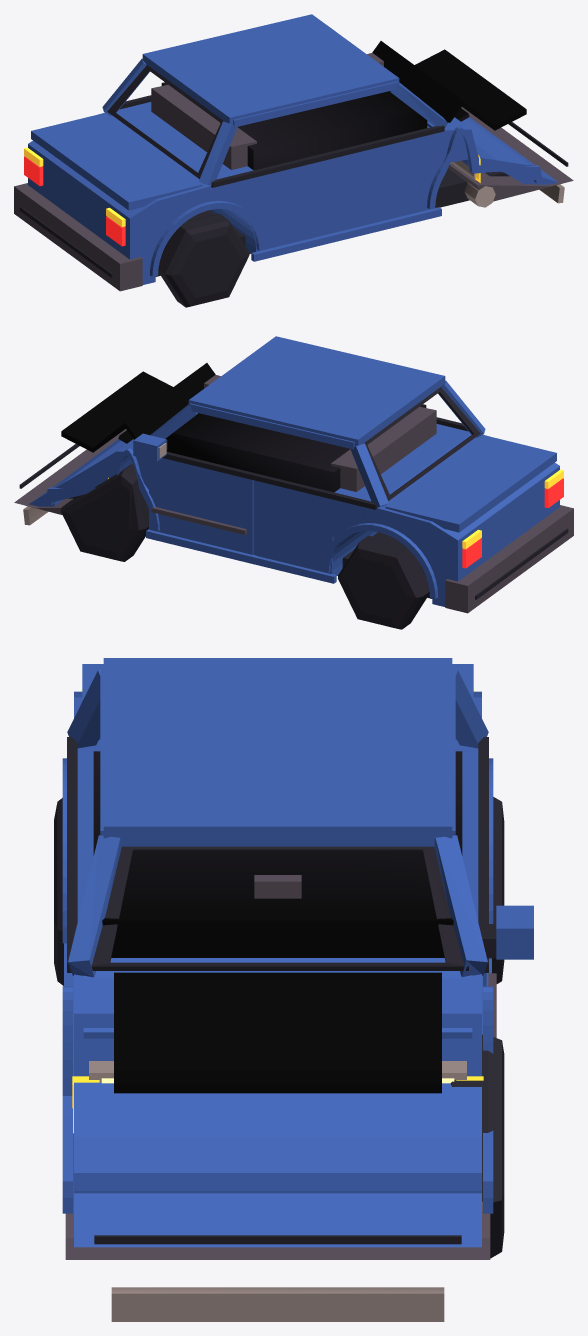
File: model.wrecked.lod2.glb
The picture shows the model from 3 angles, top to bottom: view 1: azimuth 30°, elevation 25°; view 2: azimuth 150°, elevation 25°; view 3: azimuth 270°, elevation 25°; orthographic projection. The views are drawn at different scales.
Visible parts, largest first — view 1: body_pal_policeBlue, body_pal_asphalt, exposedCabin, wheelRL_pal_uiDark, buckledHood, body_pal_uiDark, lightsBrake_emi_sirenRed, exposedAxleHub, lightsBrake_emi_schoolBusYellow; view 2: body_pal_policeBlue, body_pal_asphalt, doorR_pal_policeBlue, exposedCabin, doorRearR_pal_policeBlue, wheelRR_pal_uiDark, buckledHood, wheelFR_pal_uiDark, body_pal_uiDark, lightsBrake_emi_sirenRed, doorR_pal_asphalt, lightsBrake_emi_schoolBusYellow; view 3: body_pal_policeBlue, buckledHood, exposedCabin, body_pal_uiDark, detachedBumper, body_pal_asphalt, wheelFR_pal_uiDark, doorR_pal_policeBlue, wheelRL_pal_uiDark, wheelRR_pal_uiDark, body_pal_sidewalk.
Part boxes in pixels (x1,y1,x2,y2): body_pal_policeBlue: (28, 14, 558, 284); body_pal_asphalt: (14, 53, 573, 291); exposedCabin: (161, 82, 427, 170); wheelRL_pal_uiDark: (158, 213, 249, 307); buckledHood: (372, 41, 526, 130); body_pal_uiDark: (19, 64, 568, 277); lightsBrake_emi_sirenRed: (24, 156, 125, 246); exposedAxleHub: (464, 182, 495, 207); lightsBrake_emi_schoolBusYellow: (24, 147, 125, 226); body_pal_policeBlue: (29, 336, 559, 606); body_pal_asphalt: (14, 375, 573, 613); doorR_pal_policeBlue: (133, 433, 253, 554); exposedCabin: (165, 404, 426, 492); doorRearR_pal_policeBlue: (256, 481, 367, 573); wheelRR_pal_uiDark: (338, 535, 429, 629); buckledHood: (61, 363, 215, 452); wheelFR_pal_uiDark: (60, 463, 148, 561); body_pal_uiDark: (19, 386, 568, 599); lightsBrake_emi_sirenRed: (462, 478, 563, 568); doorR_pal_asphalt: (151, 507, 246, 534); lightsBrake_emi_schoolBusYellow: (462, 469, 563, 548); body_pal_policeBlue: (62, 658, 493, 1247); buckledHood: (114, 972, 441, 1093); exposedCabin: (93, 751, 462, 957); body_pal_uiDark: (67, 737, 488, 1244); detachedBumper: (111, 1287, 444, 1321); body_pal_asphalt: (65, 875, 490, 1259); wheelFR_pal_uiDark: (450, 1034, 504, 1258); doorR_pal_policeBlue: (483, 905, 533, 986); wheelRL_pal_uiDark: (54, 798, 63, 985); wheelRR_pal_uiDark: (492, 797, 504, 983); body_pal_sidewalk: (89, 1061, 466, 1081).
Bounding box in the file's own units: 4.46 × 1.59 × 2.03.
